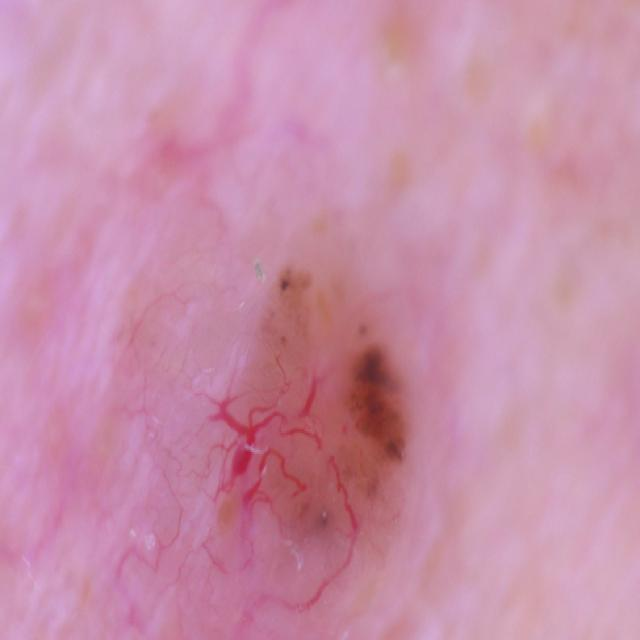Carcinoma: (141, 224, 484, 640)
